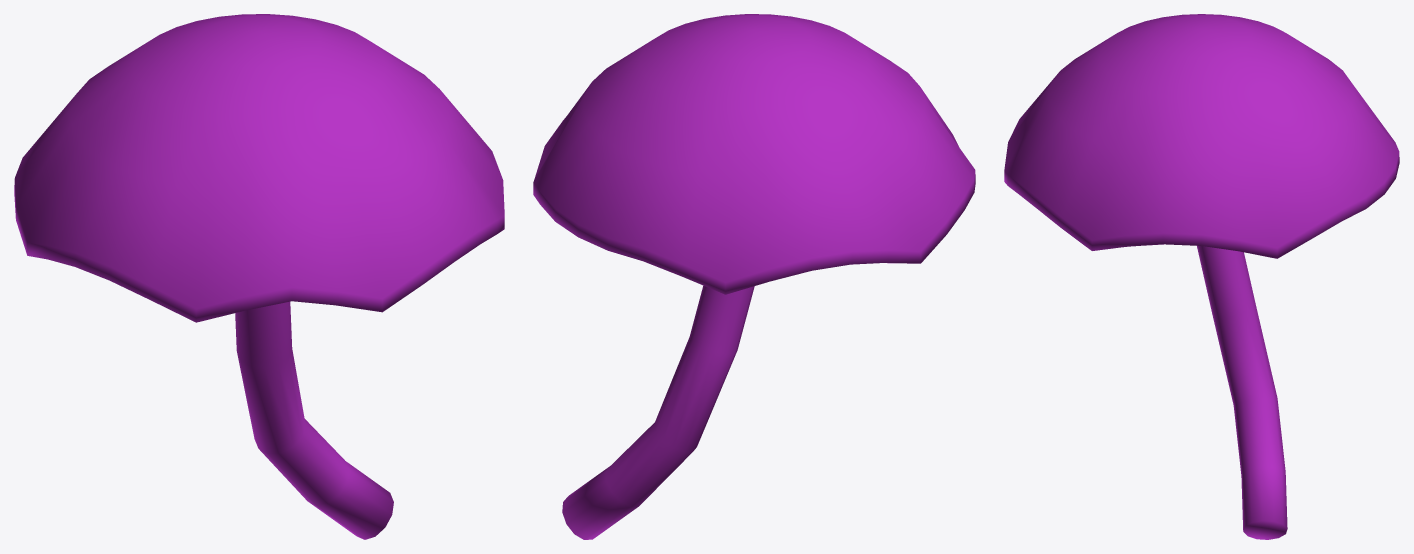
File: Mushroom_2.glb
3 renders of one model, left to right at view 1: azimuth 30°, elevation 25°; view 2: azimuth 150°, elevation 25°; view 3: azimuth 270°, elevation 25°, orthographic. The views are drawn at different scales.
Parts seen in each view (by area): view 1: Mushroom2.001; view 2: Mushroom2.001; view 3: Mushroom2.001.
Part boxes in pixels (bbox=[...]): Mushroom2.001: bbox=[14, 14, 504, 539]; Mushroom2.001: bbox=[533, 14, 975, 539]; Mushroom2.001: bbox=[1004, 14, 1399, 539].
Bounding box in the file's own units: 4.25 × 5.41 × 4.25.
